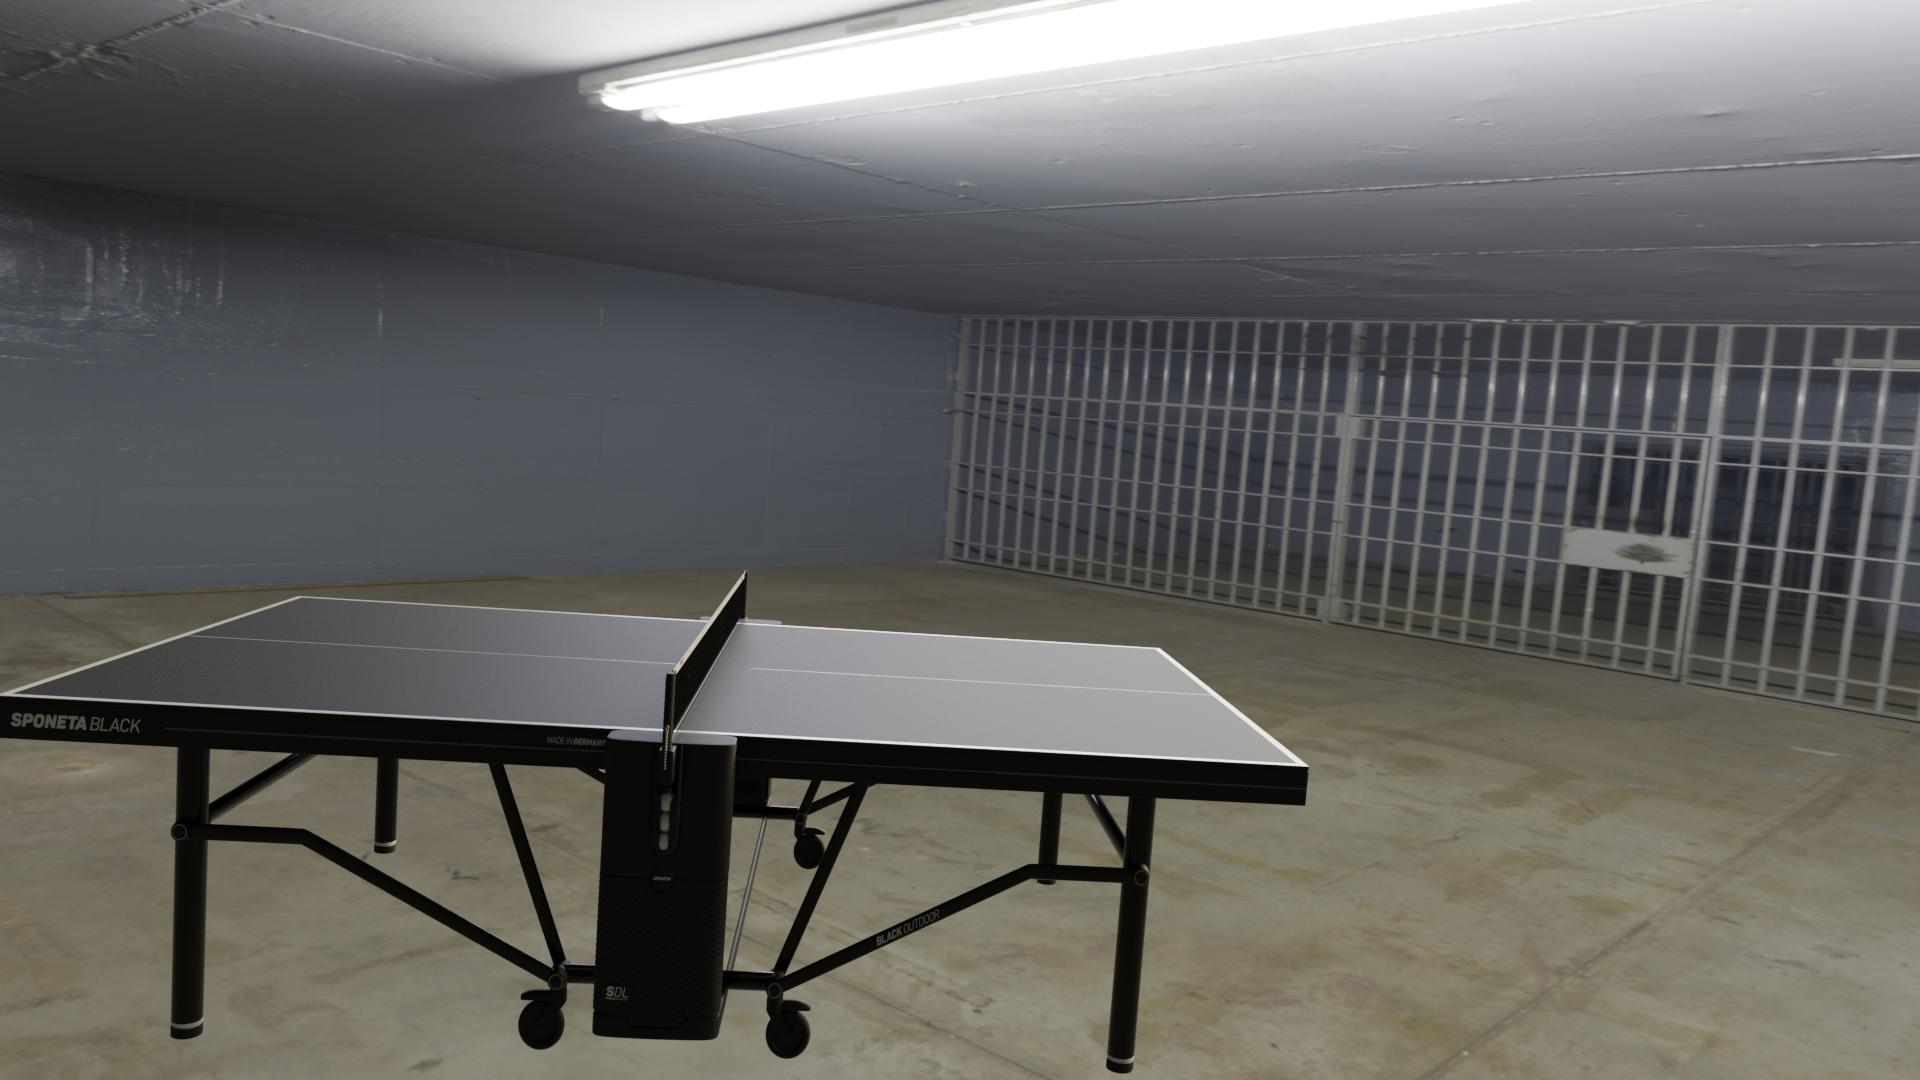table: (12, 597, 1298, 764)
